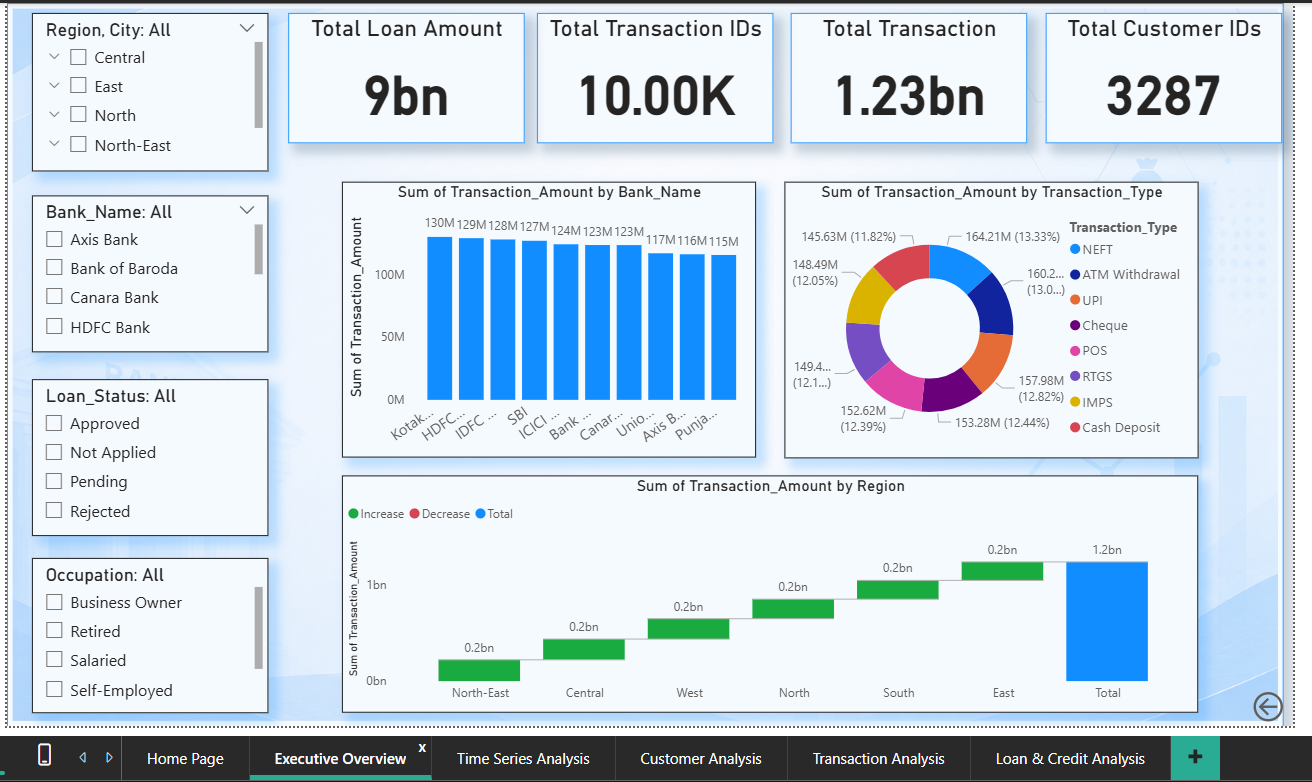

The page's visual inventory and layout, read from the dashboard file:
{"tool":"powerbi","page":{"name":"Executive Overview","canvas":[1280,720],"ordinal":1},"visuals":[{"type":"image","box":[9.6,0,1270.7,720.4],"z":0},{"type":"card","title":"Total Customer IDs","fields":{"Values":["Count(Clean And Analyse Indian bankin.Customer_ID)"]},"box":[1034,10.3,235,129.4],"z":1000},{"type":"card","title":"Total Transaction","fields":{"Values":["Sum(Clean And Analyse Indian bankin.Transaction_Amount)"]},"box":[780.5,10.3,235.2,129.4],"z":2000},{"type":"card","title":"Total Transaction IDs","fields":{"Values":["CountNonNull(Clean And Analyse Indian bankin.Transaction_ID)"]},"box":[527.7,10.3,235.2,129.4],"z":3000},{"type":"card","title":"Total Loan Amount","fields":{"Values":["Sum(Clean And Analyse Indian bankin.Loan_Amount)"]},"box":[279.3,10.3,235.2,129.4],"z":4000},{"type":"slicer","fields":{"Values":["Clean And Analyse Indian bankin.City"]},"box":[25,10.3,235.2,157.3],"z":5000},{"type":"slicer","fields":{"Values":["Clean And Analyse Indian bankin.Bank_Name"]},"box":[25,191.1,235.2,155.8],"z":6000},{"type":"slicer","fields":{"Values":["Clean And Analyse Indian bankin.Loan_Status"]},"box":[25,374.8,235.2,155.8],"z":7000},{"type":"slicer","fields":{"Values":["Clean And Analyse Indian bankin.Occupation"]},"box":[25,552.7,235.2,154.3],"z":8000},{"type":"donutChart","fields":{"Y":["Sum(Clean And Analyse Indian bankin.Transaction_Amount)"],"Category":["Clean And Analyse Indian bankin.Transaction_Type"]},"box":[780.5,177.9,370.4,274.9],"z":8001},{"type":"columnChart","fields":{"Category":["Clean And Analyse Indian bankin.Bank_Name"],"Y":["Sum(Clean And Analyse Indian bankin.Transaction_Amount)"]},"box":[396.9,177.9,348.4,274.9],"z":8002},{"type":"lineChart","fields":{"Category":["Clean And Analyse Indian bankin.Transaction_Date.Variation.Date Hierarchy.Month"],"Y":["Sum(Clean And Analyse Indian bankin.Transaction_Amount)"]},"box":[396.9,470.4,754.1,236.7],"z":8003}]}

Visuals, with their boxes on the page's 1280x720 design canvas (x1, y1, x2, y2). These are canvas units, not pixel positions in the 1312x782 screenshot, which may show the page scaled, cropped or inside an application window:
image: x1=10 y1=0 x2=1280 y2=720
"Total Customer IDs" card: x1=1034 y1=10 x2=1269 y2=140
"Total Transaction" card: x1=780 y1=10 x2=1016 y2=140
"Total Transaction IDs" card: x1=528 y1=10 x2=763 y2=140
"Total Loan Amount" card: x1=279 y1=10 x2=514 y2=140
slicer - Clean And Analyse Indian bankin.City: x1=25 y1=10 x2=260 y2=168
slicer - Clean And Analyse Indian bankin.Bank_Name: x1=25 y1=191 x2=260 y2=347
slicer - Clean And Analyse Indian bankin.Loan_Status: x1=25 y1=375 x2=260 y2=531
slicer - Clean And Analyse Indian bankin.Occupation: x1=25 y1=553 x2=260 y2=707
donutChart - Sum(Clean And Analyse Indian bankin.Transaction_Amount) x Clean And Analyse Indian bankin.Transaction_Type: x1=780 y1=178 x2=1151 y2=453
columnChart - Clean And Analyse Indian bankin.Bank_Name x Sum(Clean And Analyse Indian bankin.Transaction_Amount): x1=397 y1=178 x2=745 y2=453
lineChart - Clean And Analyse Indian bankin.Transaction_Date.Variation.Date Hierarchy.Month x Sum(Clean And Analyse Indian bankin.Transaction_Amount): x1=397 y1=470 x2=1151 y2=707
